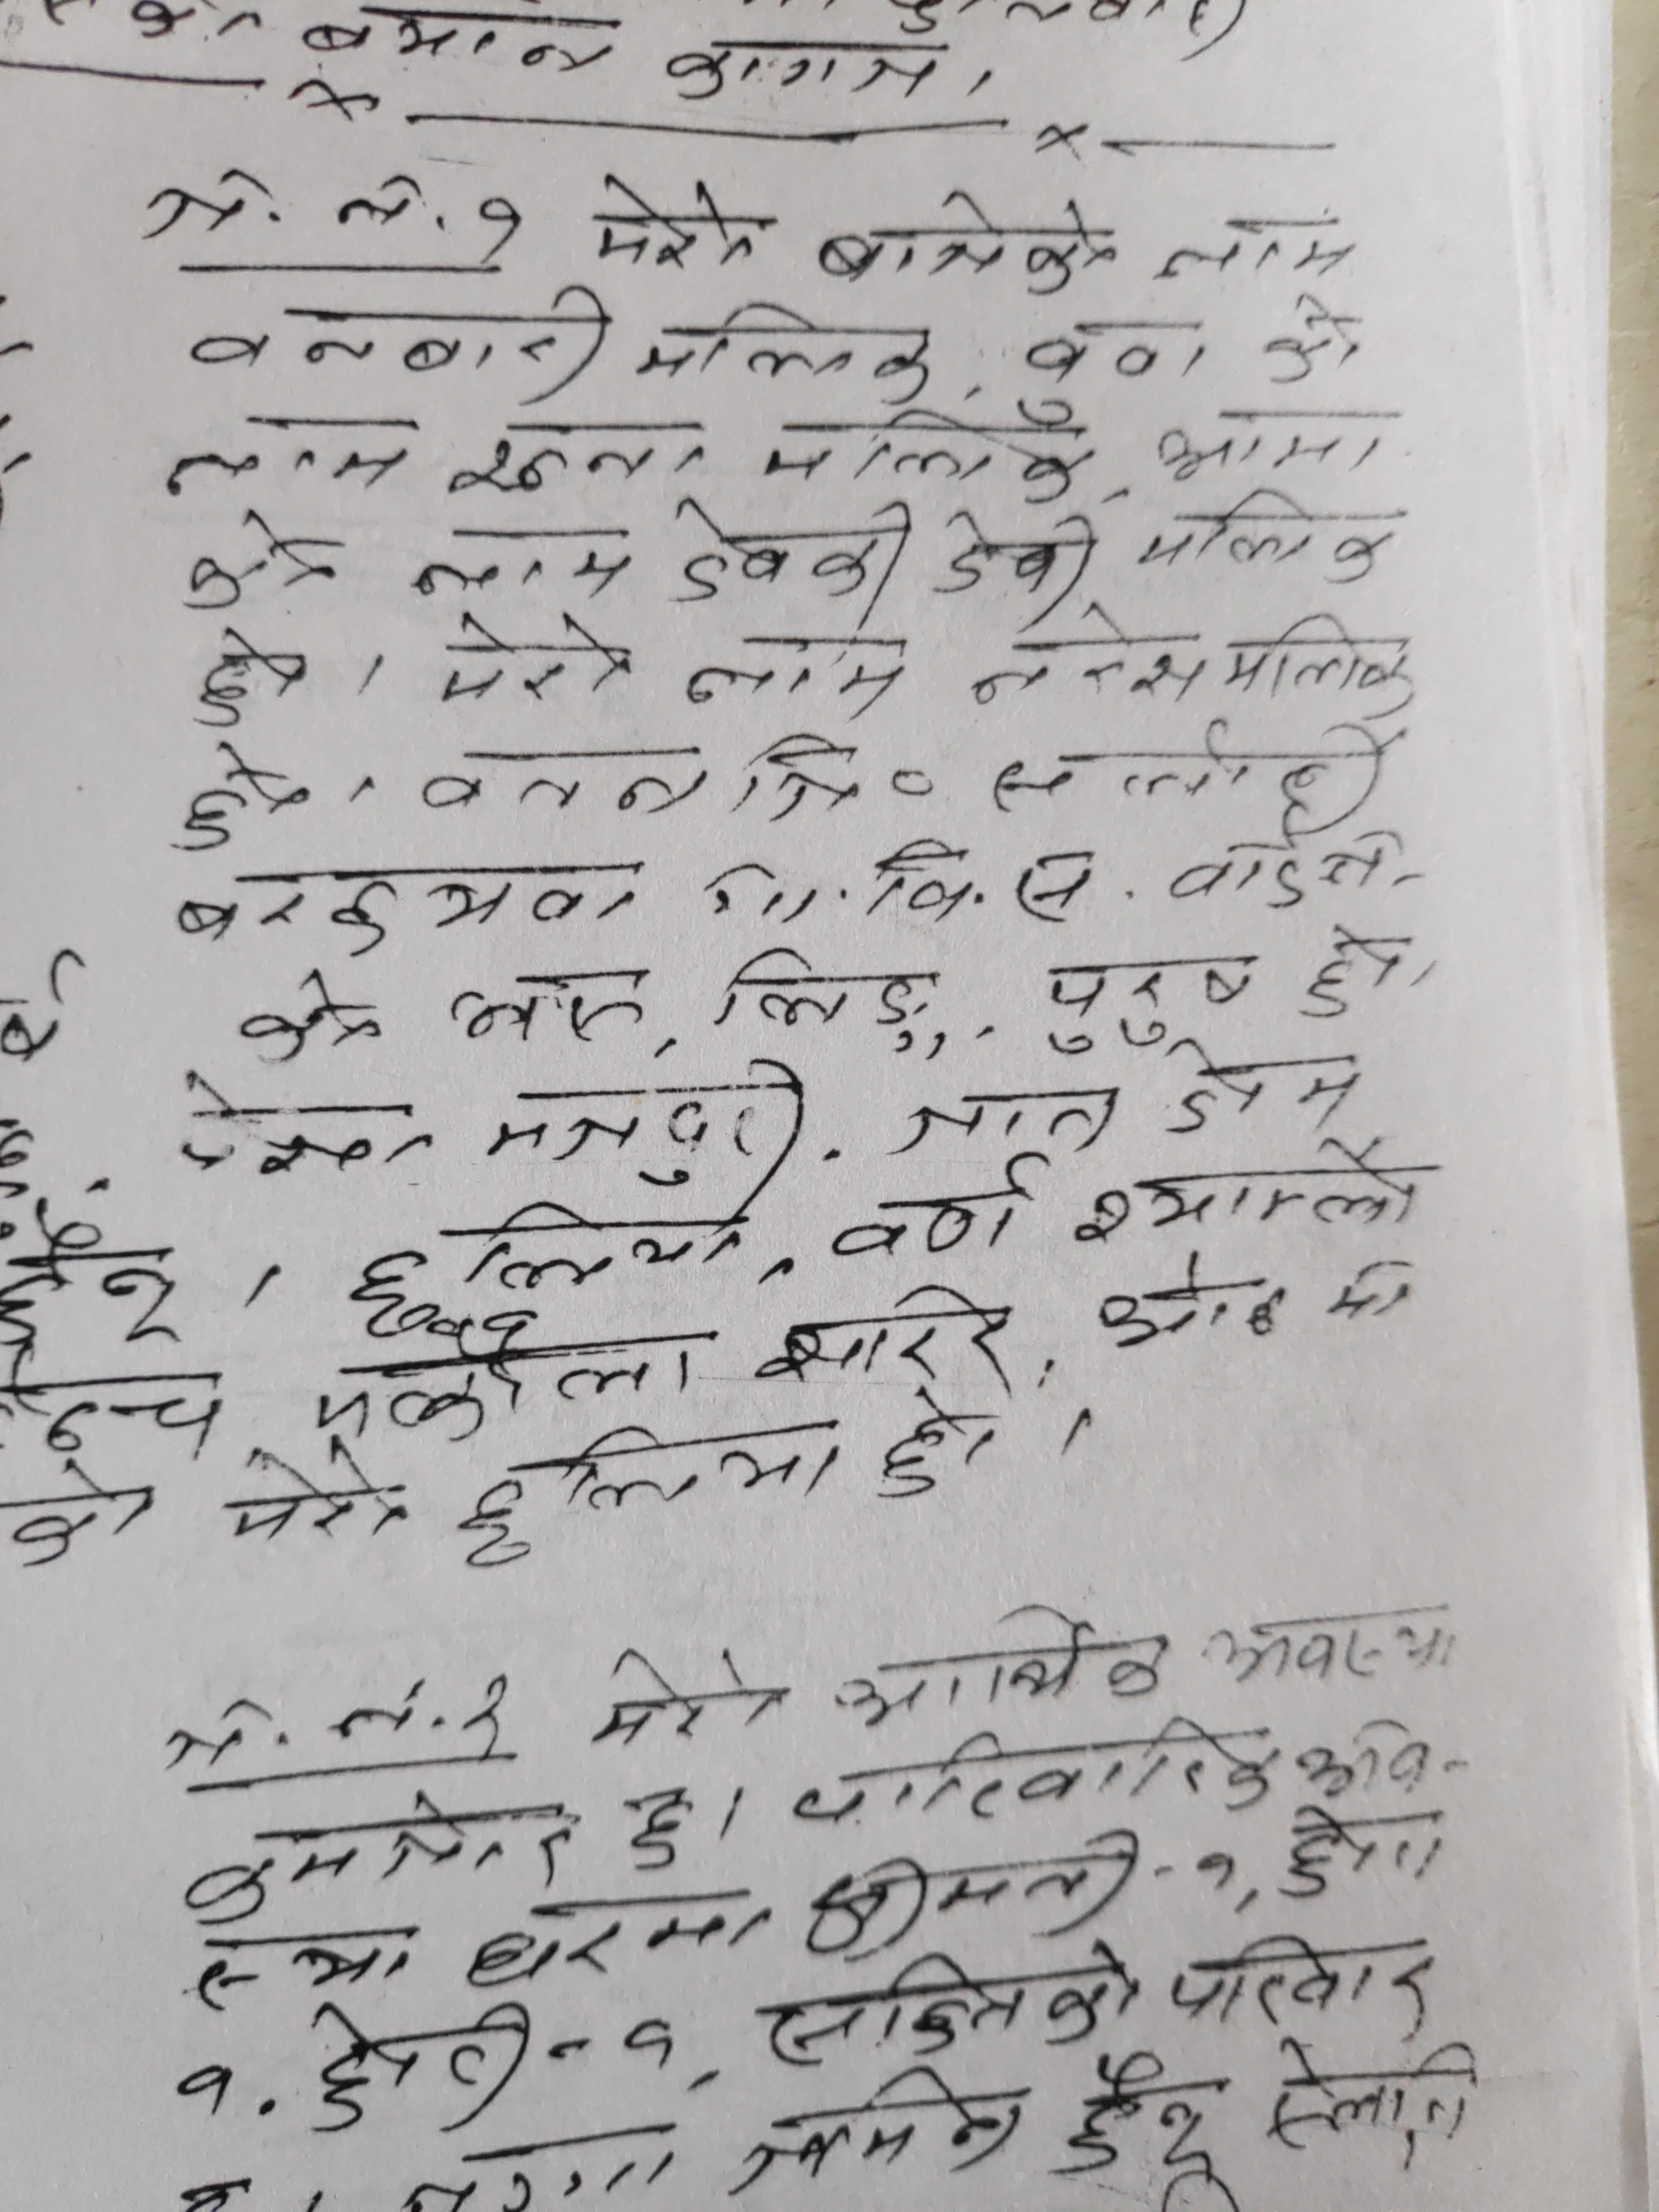text: (450, 1418, 836, 1576), (181, 1782, 563, 1921), (185, 280, 615, 392), (782, 1733, 1279, 1829), (476, 1055, 810, 1197), (169, 860, 652, 954), (758, 1946, 1138, 2062), (720, 2067, 1026, 2209), (988, 712, 1387, 820), (830, 1602, 1176, 1726), (807, 1831, 1150, 1947), (312, 1336, 711, 1433), (1068, 1143, 1432, 1249), (809, 186, 1121, 298), (627, 298, 936, 406), (305, 1993, 526, 2141), (760, 408, 1093, 505), (711, 939, 964, 1066), (457, 1893, 769, 1991), (664, 495, 913, 617), (157, 1669, 427, 1778), (160, 1071, 436, 1177), (136, 165, 450, 258), (751, 1284, 1018, 1392), (1134, 484, 1399, 590), (1262, 2026, 1483, 2153), (0, 1200, 181, 1353), (1164, 1926, 1438, 2027), (1199, 1594, 1459, 1696), (465, 1200, 744, 1292), (657, 28, 951, 111), (1164, 810, 1389, 918), (830, 1155, 1042, 1268), (1060, 2050, 1230, 2188), (296, 7, 624, 78), (160, 415, 420, 503), (866, 833, 1100, 930), (1159, 1031, 1366, 1141), (1040, 949, 1262, 1052), (1016, 314, 1209, 423), (416, 747, 711, 819), (443, 416, 708, 495), (586, 164, 769, 277), (591, 1642, 779, 1745), (188, 1926, 420, 2008), (1091, 1252, 1284, 1350), (1272, 1806, 1459, 1907), (223, 1446, 408, 1543), (1150, 416, 1399, 488), (404, 523, 636, 599), (443, 963, 659, 1045), (880, 1085, 1117, 1158), (169, 738, 310, 855), (934, 503, 1100, 603), (185, 510, 343, 613), (232, 967, 383, 1071), (9, 1460, 157, 1564), (1154, 211, 1358, 286), (875, 1390, 995, 1501), (1300, 920, 1422, 1024), (350, 1197, 436, 1339), (730, 735, 868, 820), (1297, 1719, 1438, 1801), (1253, 293, 1358, 390), (699, 855, 823, 928), (620, 1782, 697, 1879), (1321, 1252, 1422, 1322), (469, 190, 538, 272), (464, 1665, 514, 1770)
